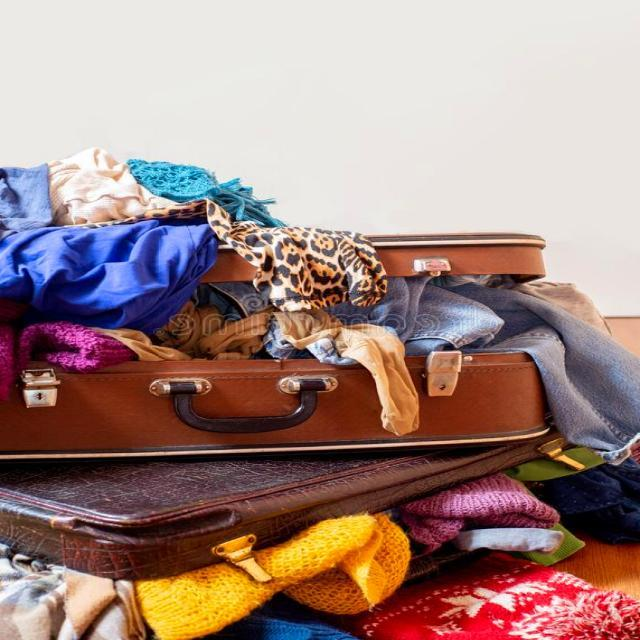clothes: (17, 115, 592, 640)
